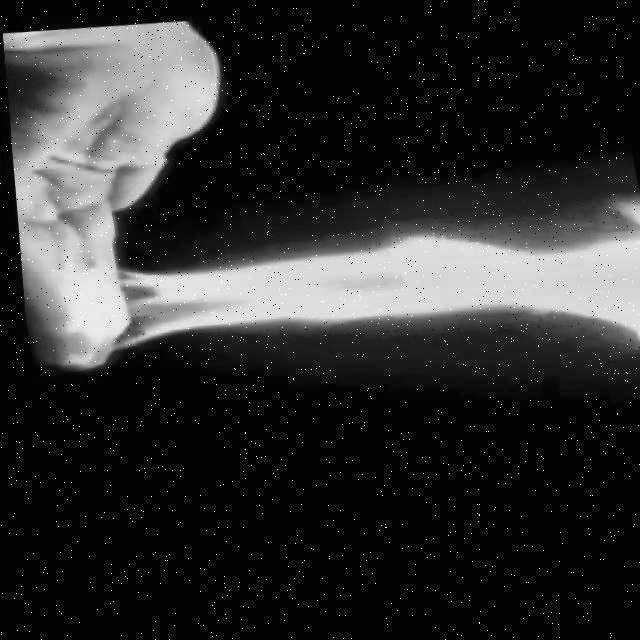Fire: (40, 175, 640, 407)
